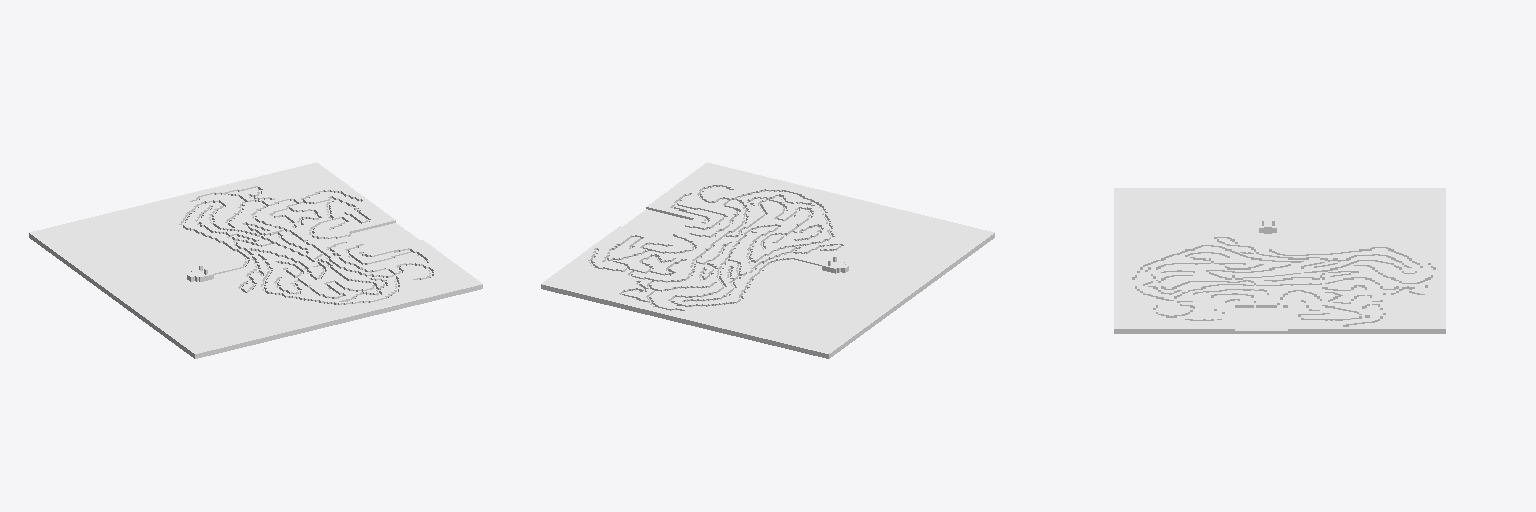
Rendered from mappa.obj.
3 renders of one model, left to right at view 1: azimuth 30°, elevation 25°; view 2: azimuth 150°, elevation 25°; view 3: azimuth 270°, elevation 25°, orthographic.
Bounding box in the file's own units: 126 × 6 × 126.